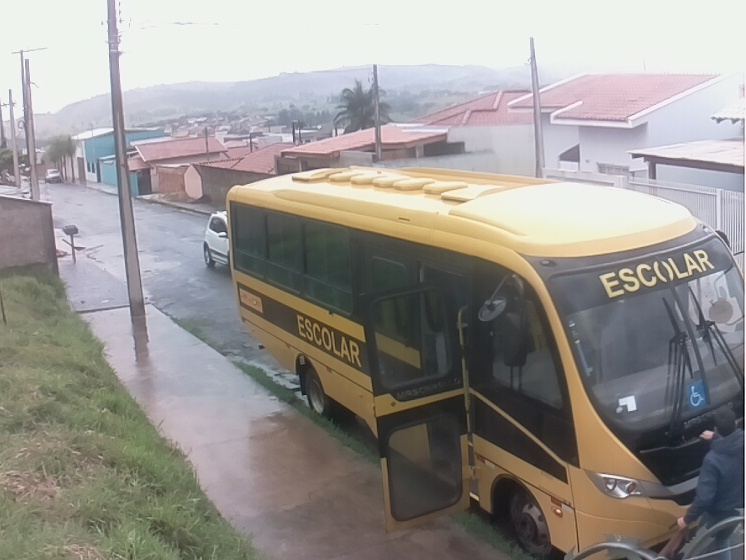person: (676, 406, 746, 552)
